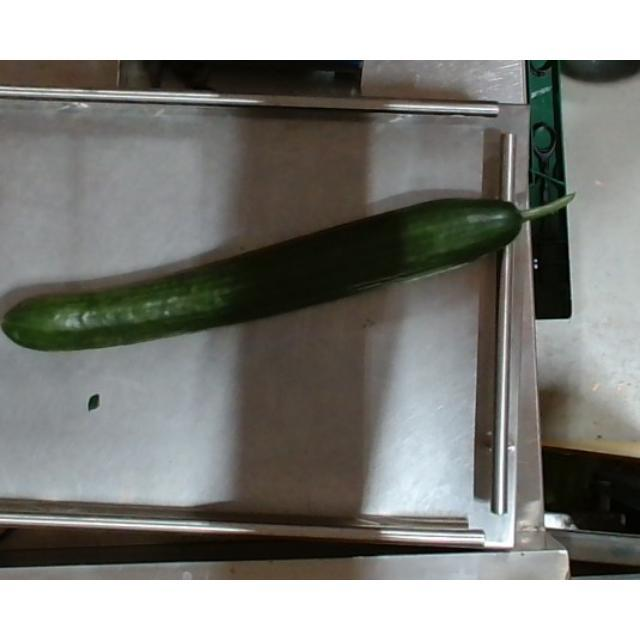cucumber: (0, 190, 578, 350)
